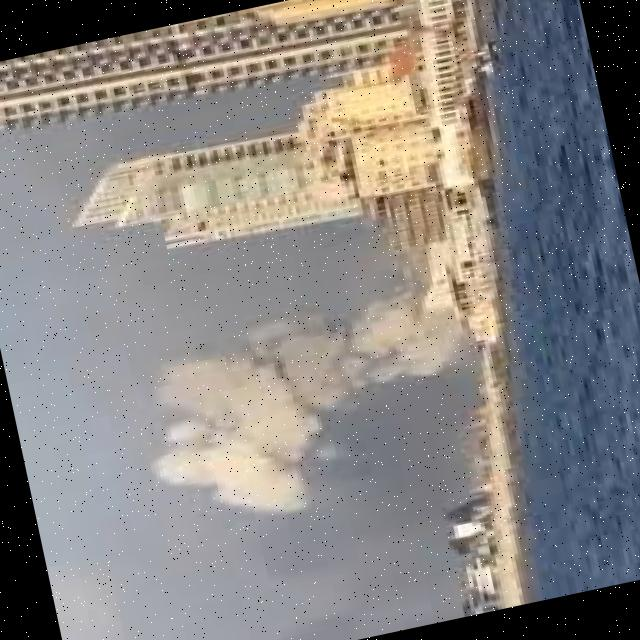explosion: (32, 214, 560, 592)
